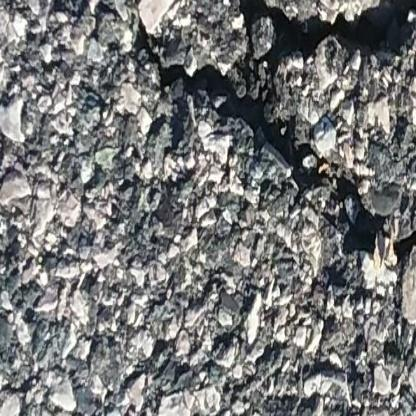Cracks: (40, 0, 416, 282), (225, 0, 416, 79)
